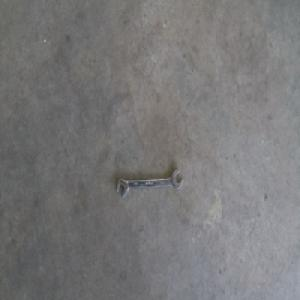Wrench: (115, 167, 182, 194)
